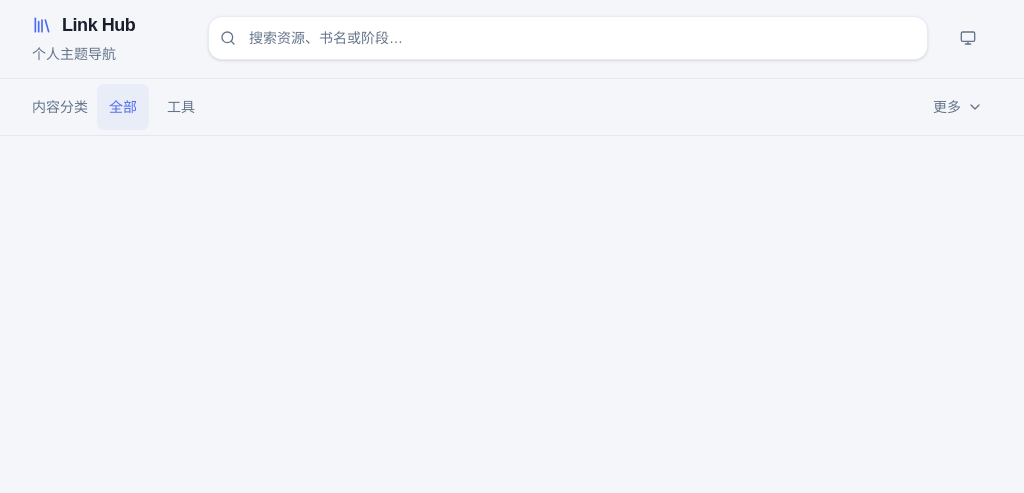
Test: 头部与标签筛选 › 旧链接仍可切换原匹配方式，且可明确转入分组匹配
The image size is (1024, 493).
Click the button with aria-label "更多筛选" at (958, 107), box [924, 83, 992, 131]
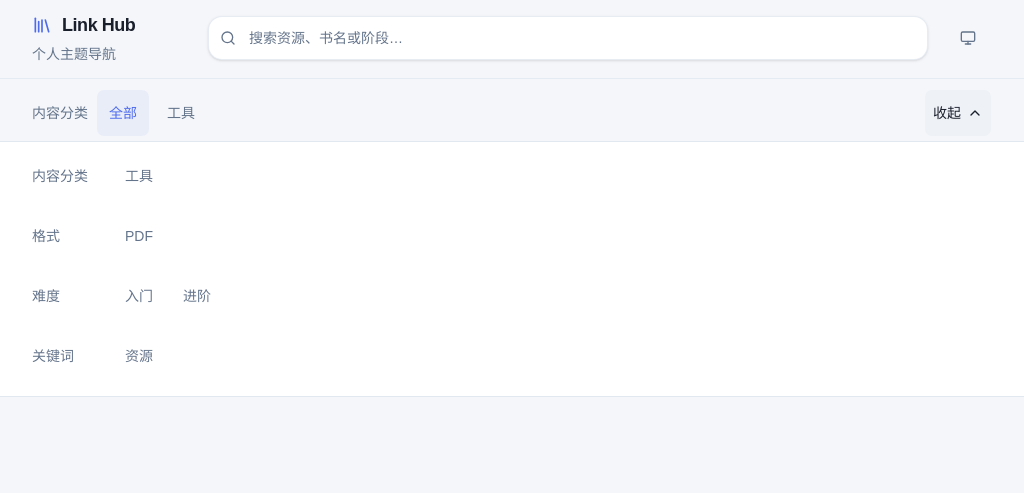
Click the button "资源" at (139, 356), box [112, 332, 166, 380]
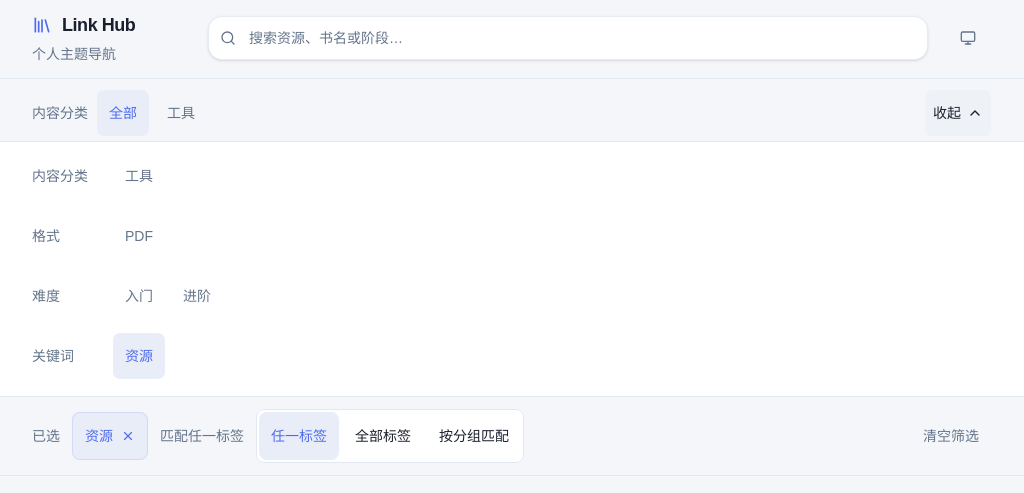
Click the button "PDF" at (139, 236), box [112, 212, 166, 260]
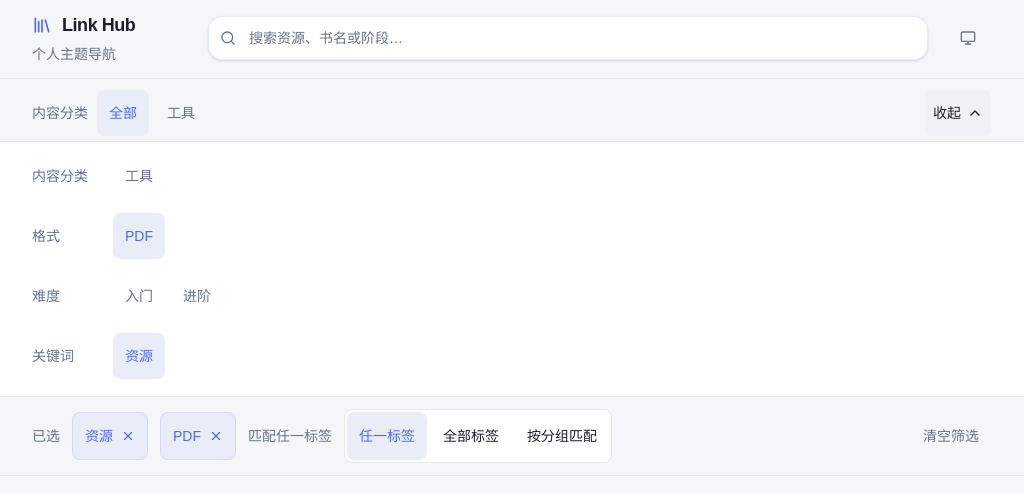
Click the radio button labelled "全部标签" at (471, 436), box [443, 428, 499, 444]
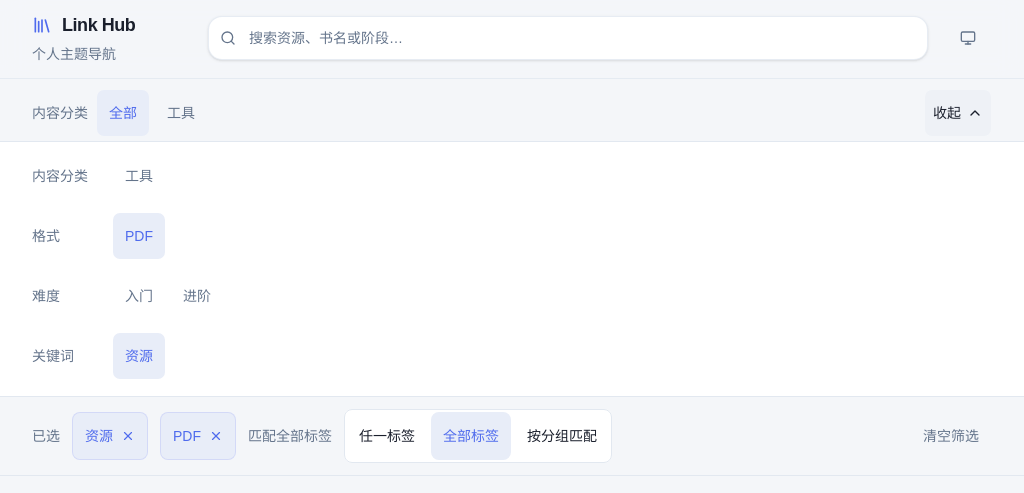
Result: the text "匹配全部标签" is shown at [248, 424, 332, 448]
Click the radio button labelled "按分组匹配" at (562, 436), box [527, 428, 597, 444]
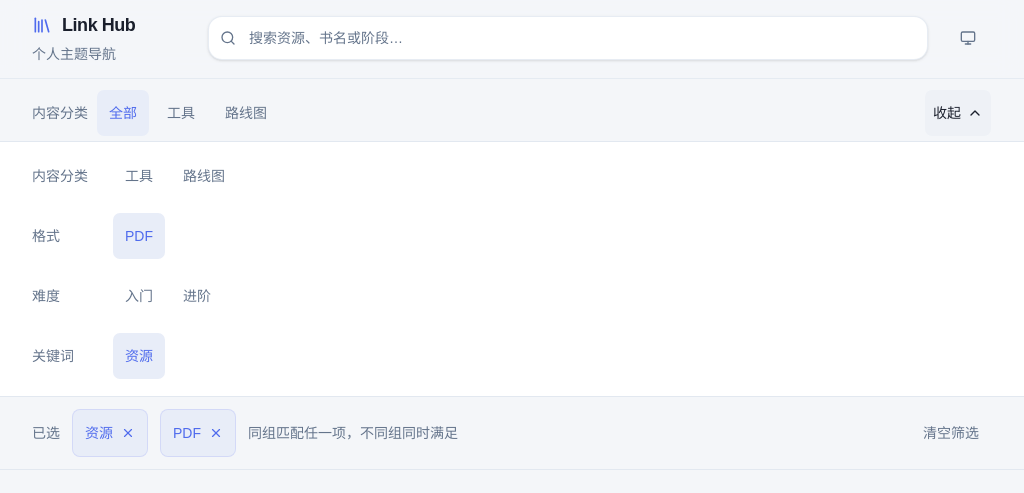
Result: the text "同组匹配任一项，不同组同时满足" is shown at [248, 421, 458, 445]
